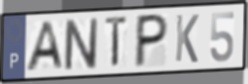5: (209, 10, 236, 64)
A: (23, 19, 66, 73)
K: (174, 13, 200, 65)
N: (63, 16, 99, 73)
P: (132, 12, 171, 70)
T: (104, 14, 130, 71)
